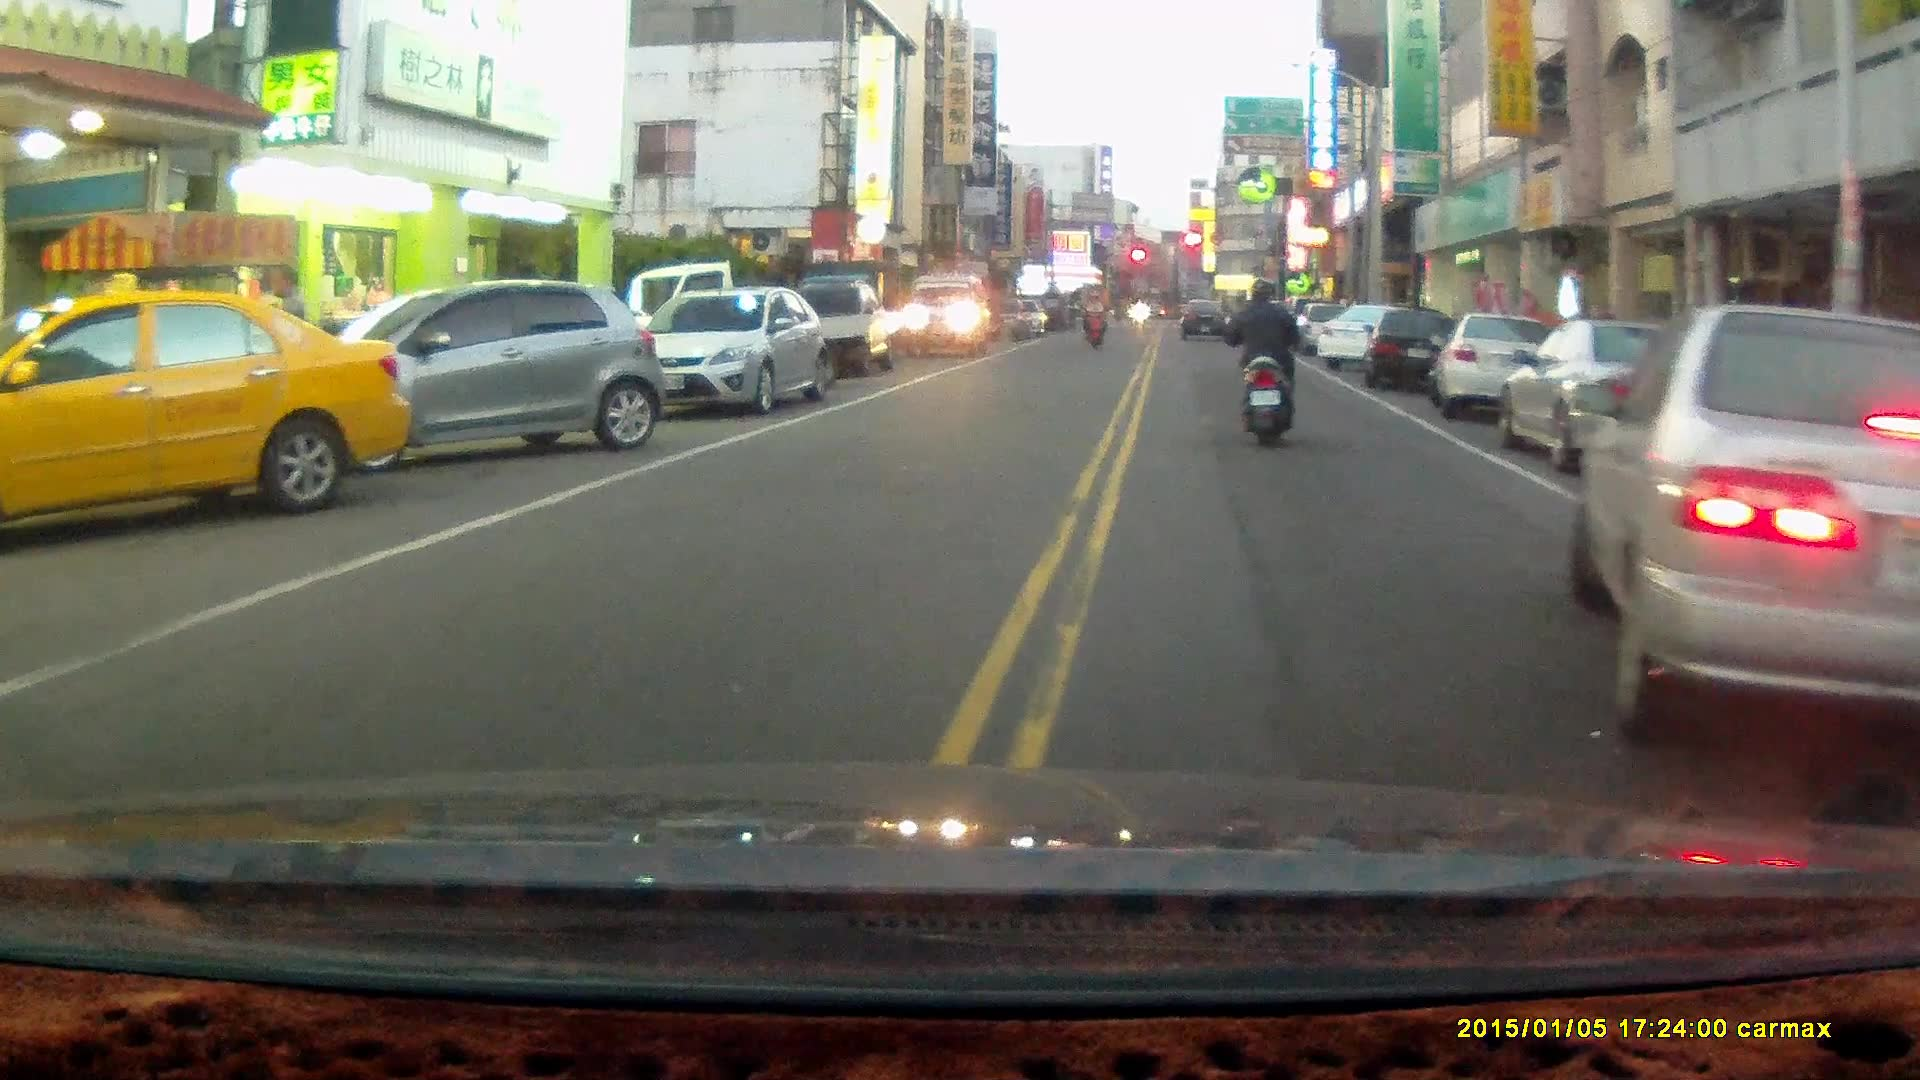rider: (1225, 278, 1307, 451), (1079, 290, 1108, 351)
vehicle: (1572, 301, 1920, 764), (1, 288, 405, 545), (291, 277, 661, 466), (1504, 317, 1732, 478), (620, 286, 832, 417), (770, 278, 902, 376), (1437, 312, 1553, 420), (903, 275, 987, 356)
